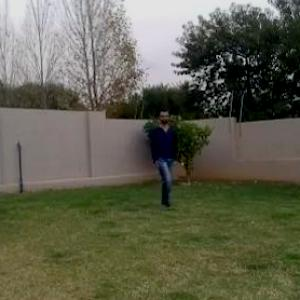follow: (152, 107, 178, 207)
